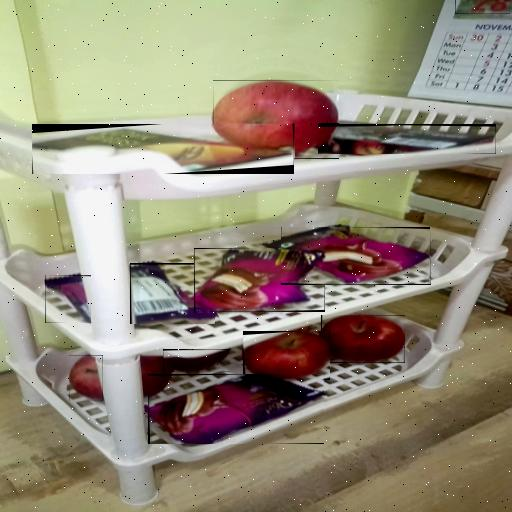Apple: (213, 80, 339, 159), (243, 331, 330, 380), (321, 315, 405, 363), (69, 355, 103, 401), (163, 349, 230, 372)
Choco Fills: (32, 124, 294, 174), (318, 124, 496, 154)
Choco Pie: (148, 374, 324, 444), (282, 227, 432, 285), (194, 248, 325, 312), (130, 263, 215, 324), (45, 275, 91, 323), (455, 0, 510, 14)
